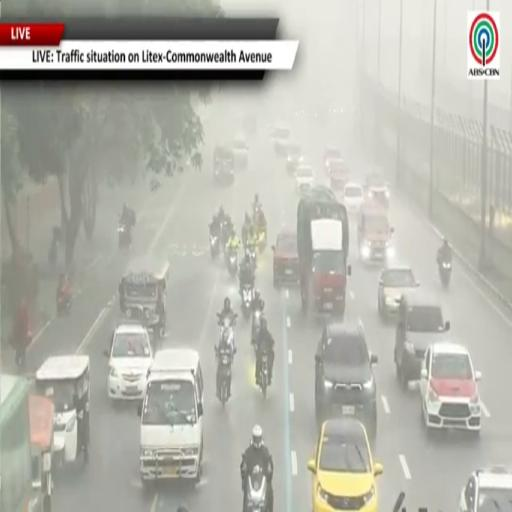bus: (0, 375, 32, 511)
car: (138, 348, 203, 489), (315, 320, 377, 439), (308, 419, 383, 511), (420, 342, 482, 434), (394, 288, 450, 389), (105, 323, 152, 401), (459, 467, 511, 511), (378, 263, 419, 317), (358, 204, 395, 262), (272, 230, 298, 286), (365, 173, 390, 206), (214, 146, 234, 185), (329, 159, 350, 191), (342, 182, 363, 214), (271, 125, 290, 156), (295, 164, 314, 194), (232, 136, 248, 170), (286, 143, 303, 174), (324, 148, 341, 172)
jeepney: (35, 356, 89, 468), (119, 259, 169, 338), (29, 395, 54, 511)
motorcycle: (215, 347, 236, 407), (245, 466, 267, 511), (218, 314, 237, 348), (258, 351, 268, 398), (242, 283, 253, 319), (118, 223, 131, 249), (252, 310, 263, 340), (439, 262, 452, 287), (220, 220, 232, 247), (57, 292, 71, 315), (227, 250, 238, 277), (245, 246, 257, 269), (210, 233, 220, 258), (258, 228, 266, 252)
truck: (297, 185, 351, 315)
